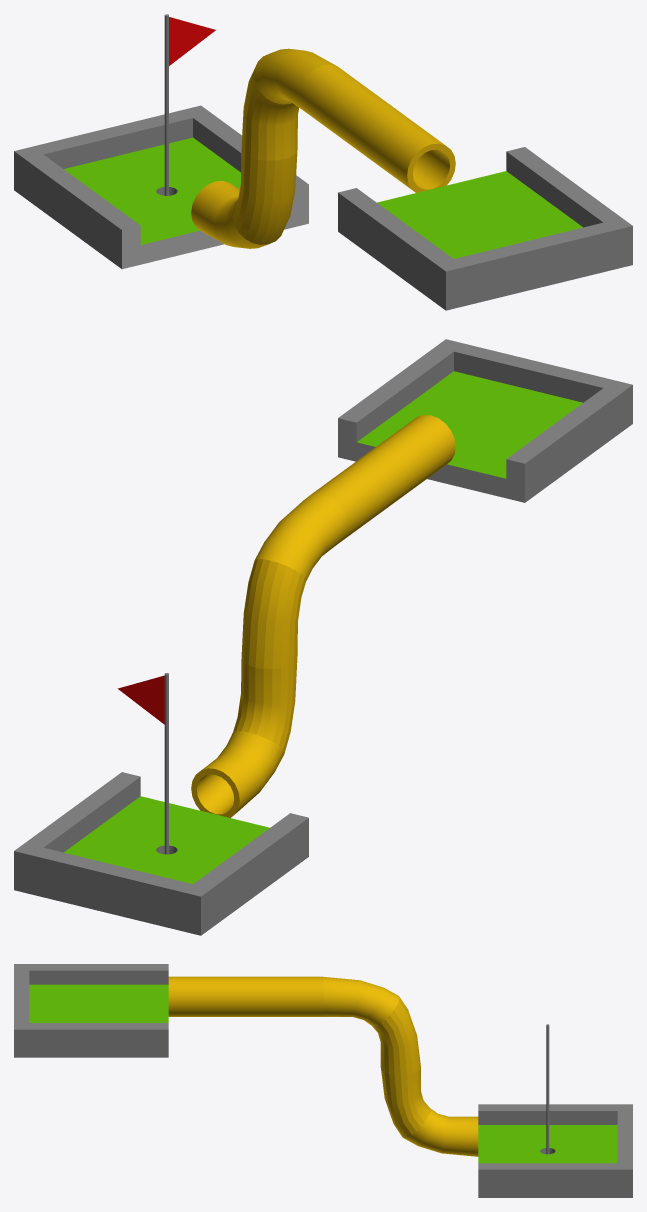
The model's file is course5.fbx.
3 views of the same model, one above another, from view 1: azimuth 30°, elevation 25°; view 2: azimuth 150°, elevation 25°; view 3: azimuth 270°, elevation 25° (orthographic). The views are drawn at different scales.
Visible parts, largest first — view 1: start6, end, pipestraight, pipecurve2, pipecurve1, flag3, flag2; view 2: end, start6, pipecurve1, pipecurve2, pipestraight, flag3, flag2; view 3: start6, end, pipestraight, pipecurve1, pipecurve2, flag3.
Part boxes in pixels (box(x1,y1,x2,y2)): start6: box(338, 147, 632, 310); end: box(14, 105, 308, 269); pipestraight: box(299, 64, 455, 192); pipecurve2: box(191, 148, 297, 248); pipecurve1: box(241, 48, 336, 160); flag3: box(164, 14, 214, 195); flag2: box(169, 17, 215, 65); end: box(14, 772, 308, 935); start6: box(338, 339, 632, 502); pipecurve1: box(241, 494, 347, 669); pipecurve2: box(191, 659, 297, 817); pipestraight: box(310, 415, 455, 541); flag3: box(119, 673, 168, 854); flag2: box(118, 675, 164, 724); start6: box(14, 964, 168, 1057); end: box(478, 1104, 632, 1197); pipestraight: box(168, 976, 323, 1016); pipecurve1: box(323, 977, 420, 1075); pipecurve2: box(380, 1067, 478, 1156); flag3: box(546, 1024, 549, 1154).
Size of the model in its own units: 10 by 13.3 by 40.
